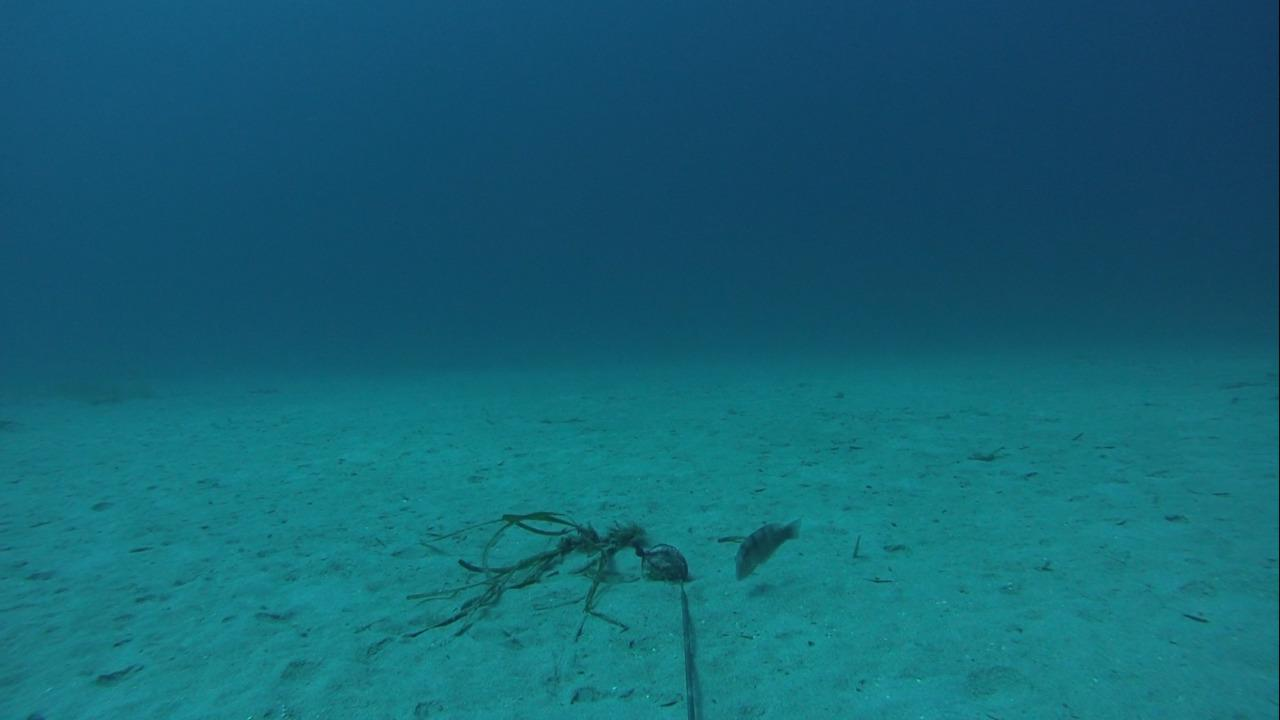raor: (726, 512, 803, 585)
